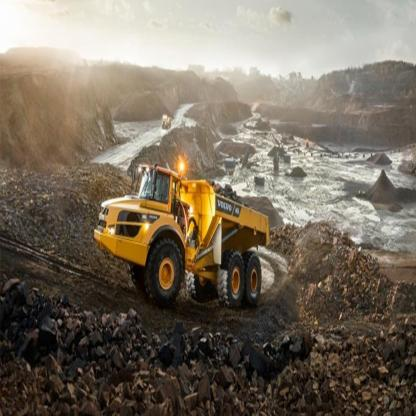dump_truck: (92, 152, 272, 312)
